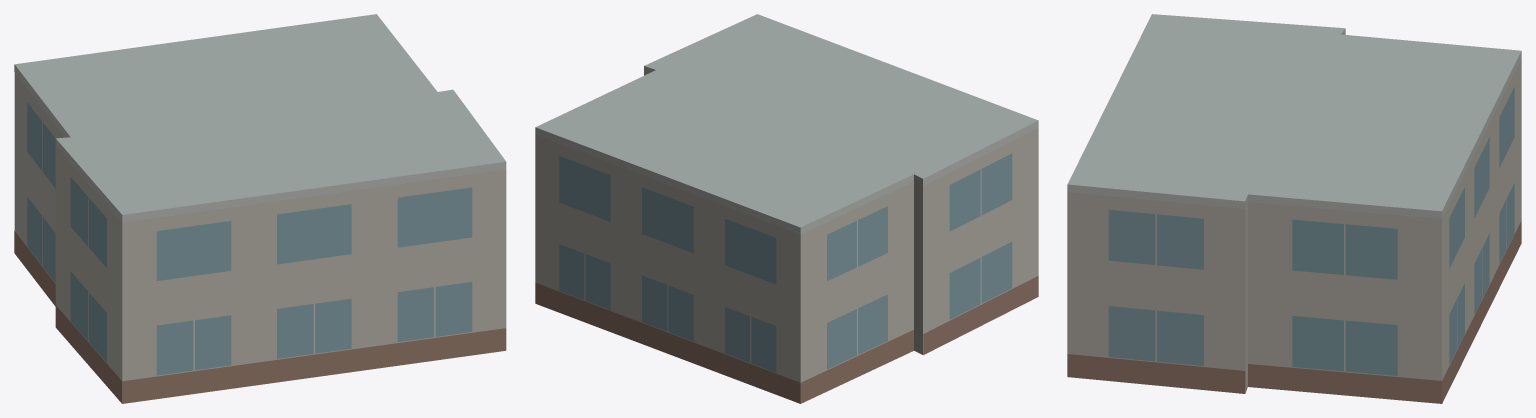
File: survey-upis-32670672.glb
3 views of the same model, side by side, from view 1: azimuth 30°, elevation 25°; view 2: azimuth 150°, elevation 25°; view 3: azimuth 270°, elevation 25° (orthographic). The views are drawn at different scales.
Visible parts, largest first — view 1: survey-upis-32670672.tmp; view 2: survey-upis-32670672.tmp; view 3: survey-upis-32670672.tmp.
Part boxes in pixels (x1=…): survey-upis-32670672.tmp: x1=14, y1=14, x2=506, y2=403; survey-upis-32670672.tmp: x1=535, y1=14, x2=1038, y2=403; survey-upis-32670672.tmp: x1=1067, y1=14, x2=1521, y2=403.
Size of the model in its own units: 13.42 by 6.1 by 13.05.
